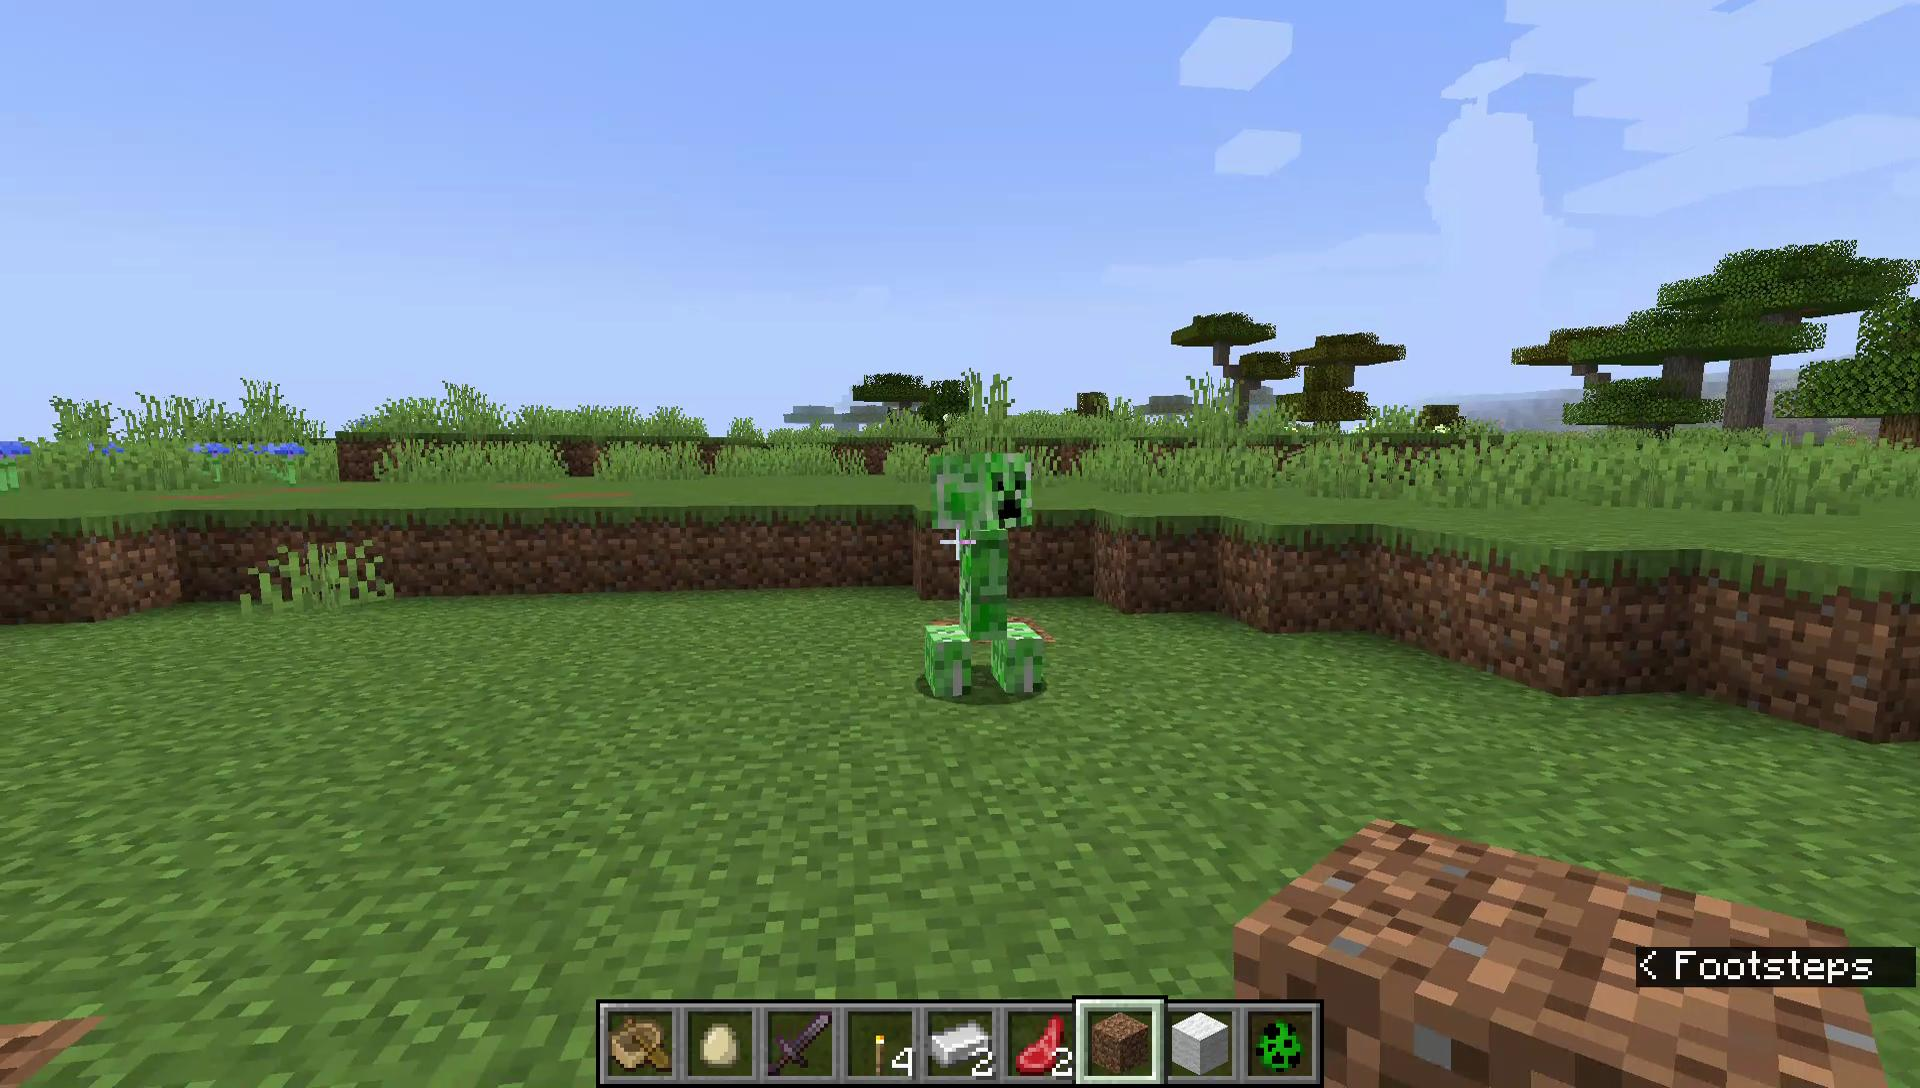creeper: (920, 448, 1051, 708)
